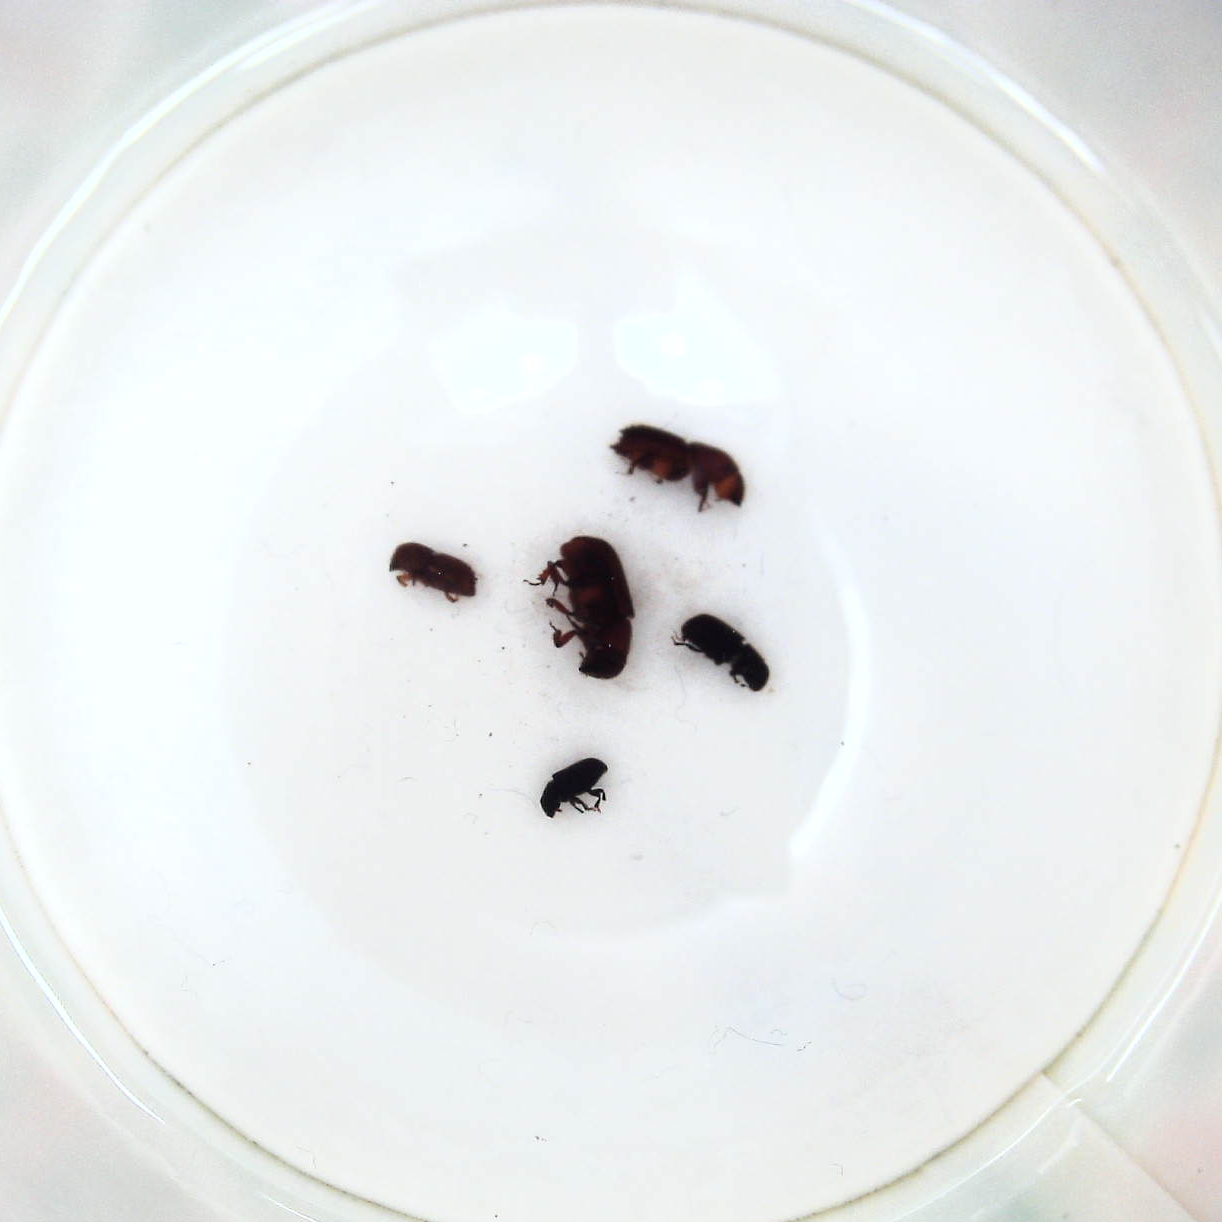Boerner: (605, 419, 749, 517)
Leconte: (524, 532, 639, 685)
armandi: (668, 609, 773, 701)
coleoptera: (534, 756, 614, 824)
linnaeus: (383, 539, 480, 604)
